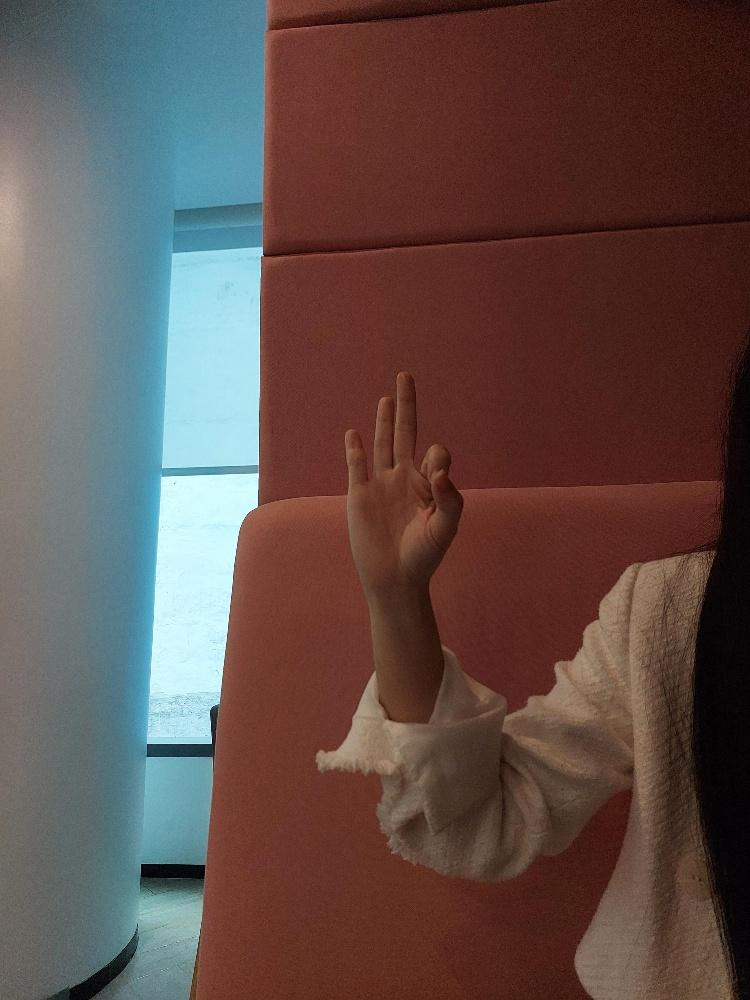f: (342, 367, 464, 577)
